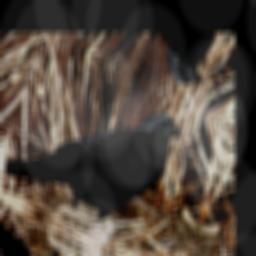Crow: (1, 51, 188, 246)
